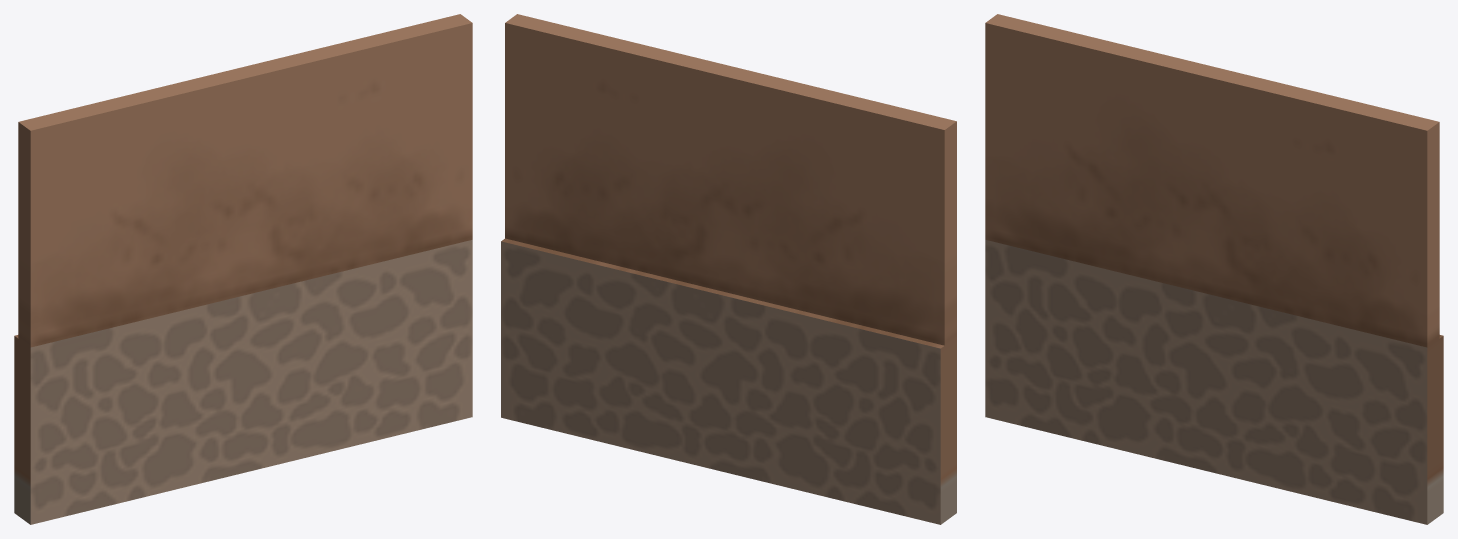
The model's file is OrangeBrown_ModularLowWall.fbx.
3 views of the same model, side by side, from view 1: azimuth 30°, elevation 25°; view 2: azimuth 150°, elevation 25°; view 3: azimuth 330°, elevation 25° (orthographic).
Parts seen in each view (by area): view 1: Cube.012; view 2: Cube.012; view 3: Cube.012.
Part boxes in pixels (<box>): Cube.012: <box>14,14,472,524</box>; Cube.012: <box>501,14,956,524</box>; Cube.012: <box>985,14,1443,524</box>.
Size of the model in its own units: 4.14 by 3.53 by 0.2635.
